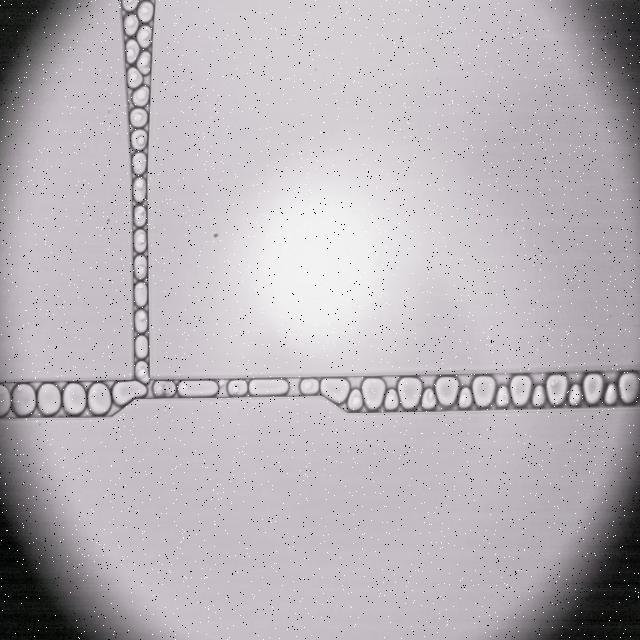L: (153, 381, 175, 397), (132, 86, 149, 106), (138, 2, 154, 22), (131, 130, 147, 150), (127, 67, 142, 88), (126, 39, 139, 63), (137, 25, 151, 47), (132, 152, 146, 174), (134, 310, 148, 332), (348, 389, 362, 411), (458, 387, 472, 409), (130, 108, 147, 126), (228, 380, 247, 396), (300, 378, 319, 394), (421, 389, 436, 409), (137, 51, 150, 74), (133, 178, 146, 201), (134, 255, 147, 278), (134, 283, 147, 306), (124, 14, 138, 35), (134, 229, 146, 252), (135, 336, 148, 357), (385, 390, 398, 411), (532, 385, 545, 406), (568, 384, 581, 405), (604, 384, 617, 405), (496, 386, 509, 406), (134, 205, 146, 226), (136, 362, 148, 382), (122, 0, 138, 10)
S: (113, 381, 147, 405), (13, 383, 36, 416), (38, 383, 61, 416), (88, 382, 111, 415), (320, 378, 349, 404), (362, 378, 385, 410), (398, 378, 421, 409), (63, 383, 85, 414), (249, 379, 289, 396), (510, 375, 531, 406), (546, 374, 567, 405), (618, 372, 639, 403), (436, 377, 459, 405), (178, 381, 218, 397), (473, 377, 495, 406), (583, 374, 603, 404), (0, 384, 10, 417)
